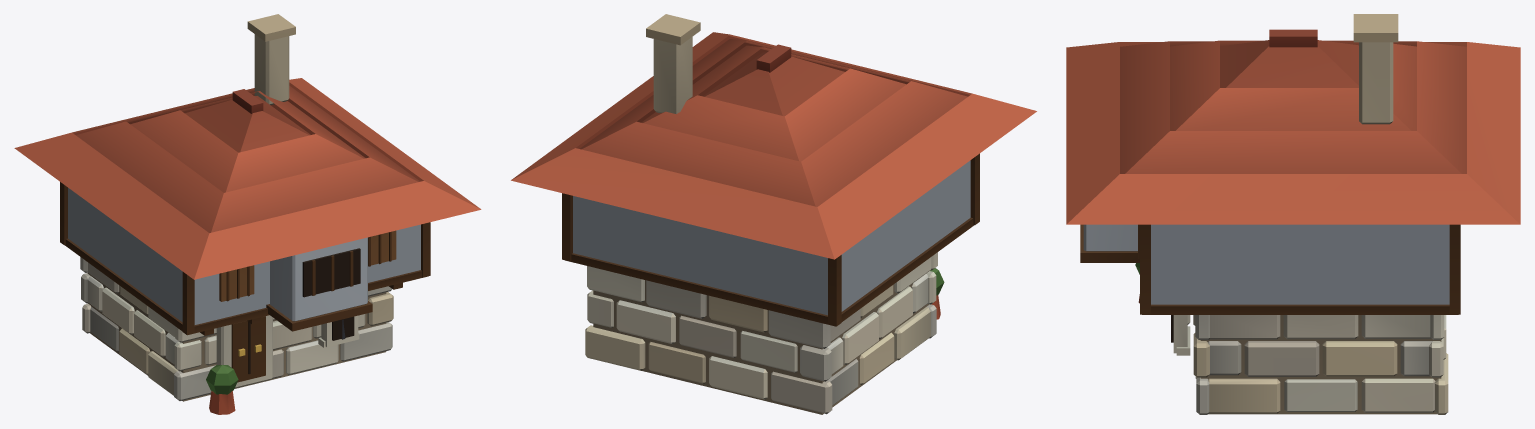
The model's file is city_house_3.glb.
3 views of the same model, side by side, from view 1: azimuth 30°, elevation 25°; view 2: azimuth 150°, elevation 25°; view 3: azimuth 270°, elevation 25° (orthographic). The views are drawn at different scales.
Visible parts, largest first — view 1: city_house_3; view 2: city_house_3; view 3: city_house_3.
Boxes of the visible parts, <box> form: city_house_3: <box>14,14,481,414</box>; city_house_3: <box>511,14,1036,414</box>; city_house_3: <box>1066,14,1520,414</box>.
Size of the model in its own units: 0.609 by 0.5825 by 0.6597.
